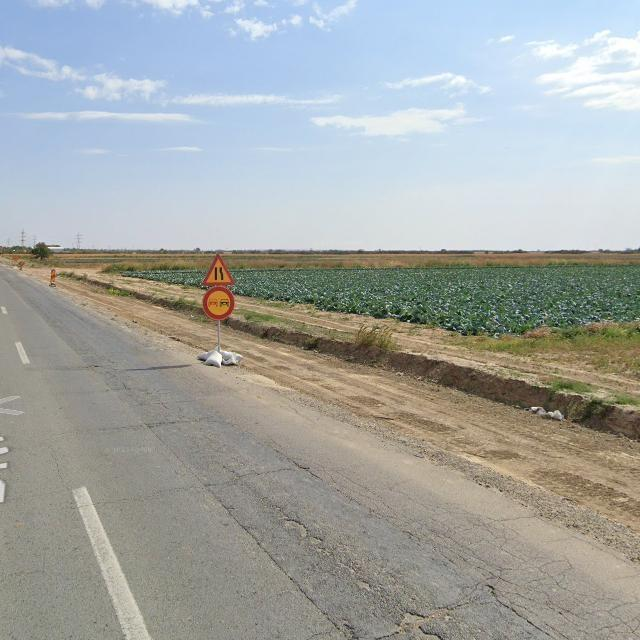forb_overtake: (203, 285, 235, 320)
